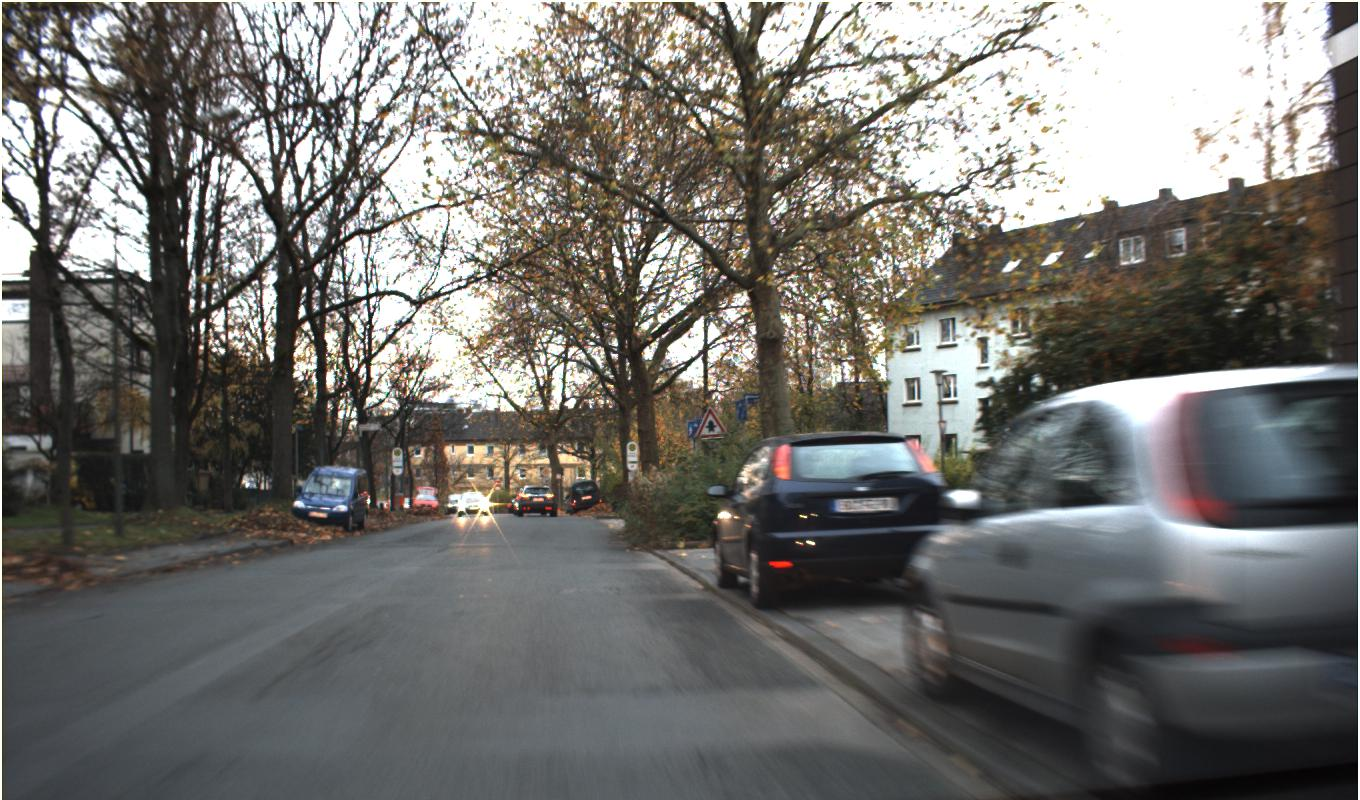danger: (693, 406, 728, 439)
